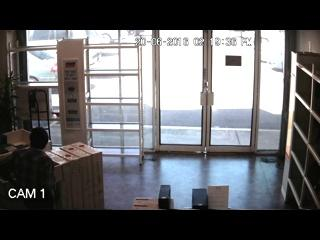Normal: (0, 127, 58, 210)
